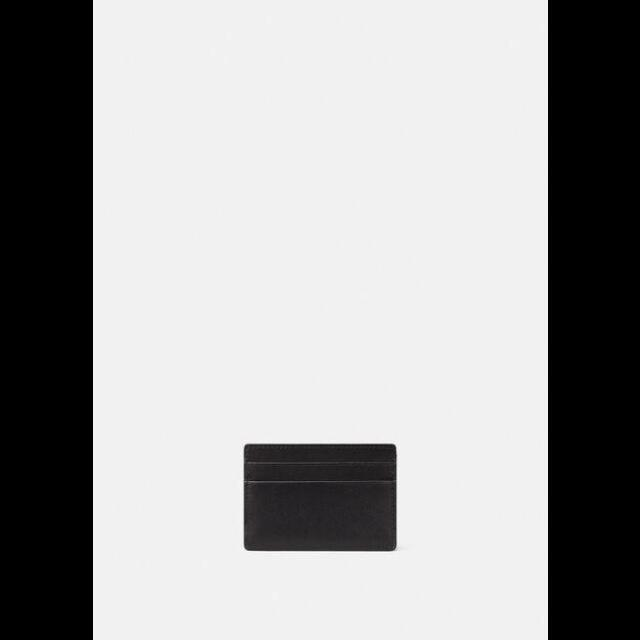Wallet: (242, 438, 398, 556)
